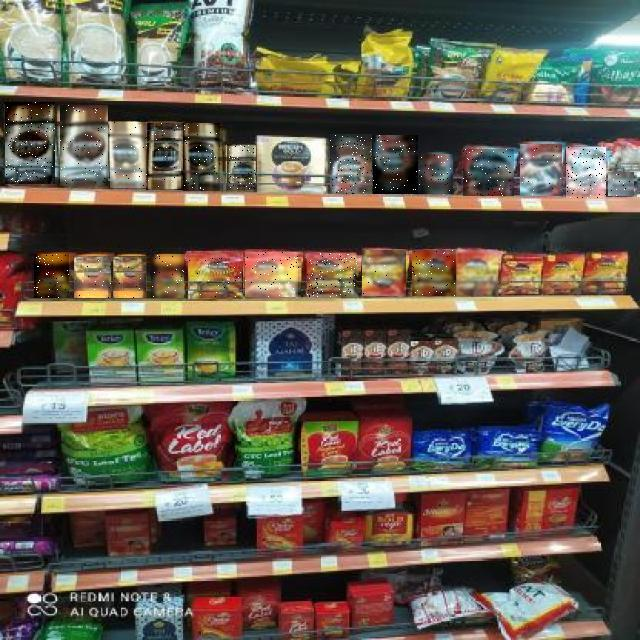Coffee: (5, 102, 55, 184), (60, 105, 108, 186), (373, 135, 418, 194), (146, 122, 185, 190), (184, 123, 222, 191), (188, 253, 243, 299), (330, 134, 372, 194), (110, 123, 147, 189), (246, 252, 300, 297), (463, 149, 514, 196), (308, 254, 358, 298), (520, 144, 562, 196), (566, 147, 606, 198), (412, 250, 456, 296), (363, 250, 407, 296), (454, 250, 498, 295), (74, 256, 111, 298), (34, 254, 69, 298), (114, 256, 150, 298), (151, 254, 184, 298), (418, 154, 453, 194), (227, 145, 256, 191), (608, 173, 634, 197)
